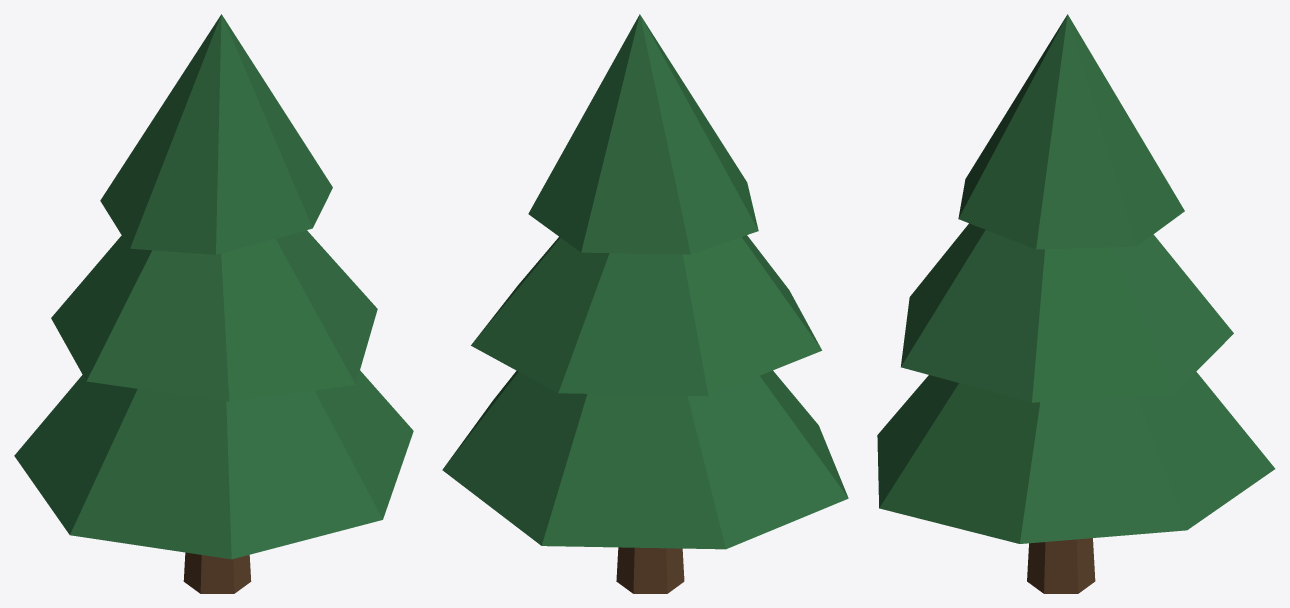
File: tree_pine.glb
The picture shows the model from 3 angles, left to right: view 1: azimuth 30°, elevation 25°; view 2: azimuth 150°, elevation 25°; view 3: azimuth 270°, elevation 25°; orthographic projection.
Visible parts, largest first — view 1: tree_pine; view 2: tree_pine; view 3: tree_pine.
Part boxes in pixels (x1,y1,x2,y2): tree_pine: [14, 14, 413, 593]; tree_pine: [442, 14, 848, 593]; tree_pine: [877, 14, 1275, 593].
Bounding box in the file's own units: 1.91 × 2.95 × 1.86.
